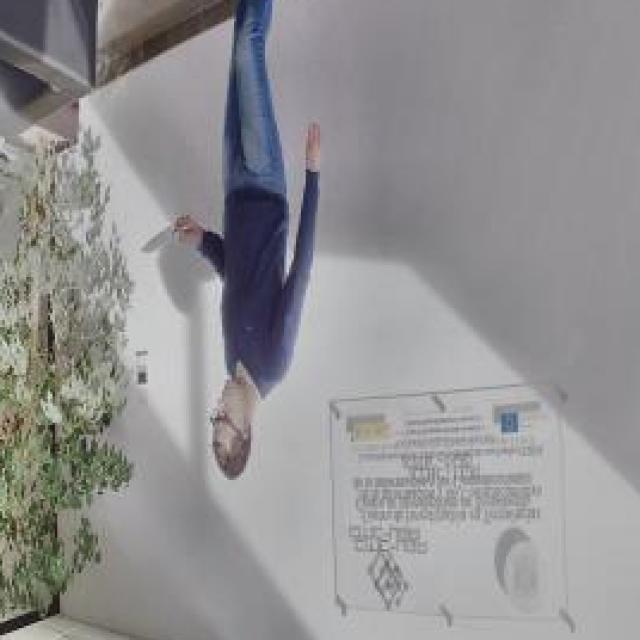knife: (139, 212, 192, 260)
